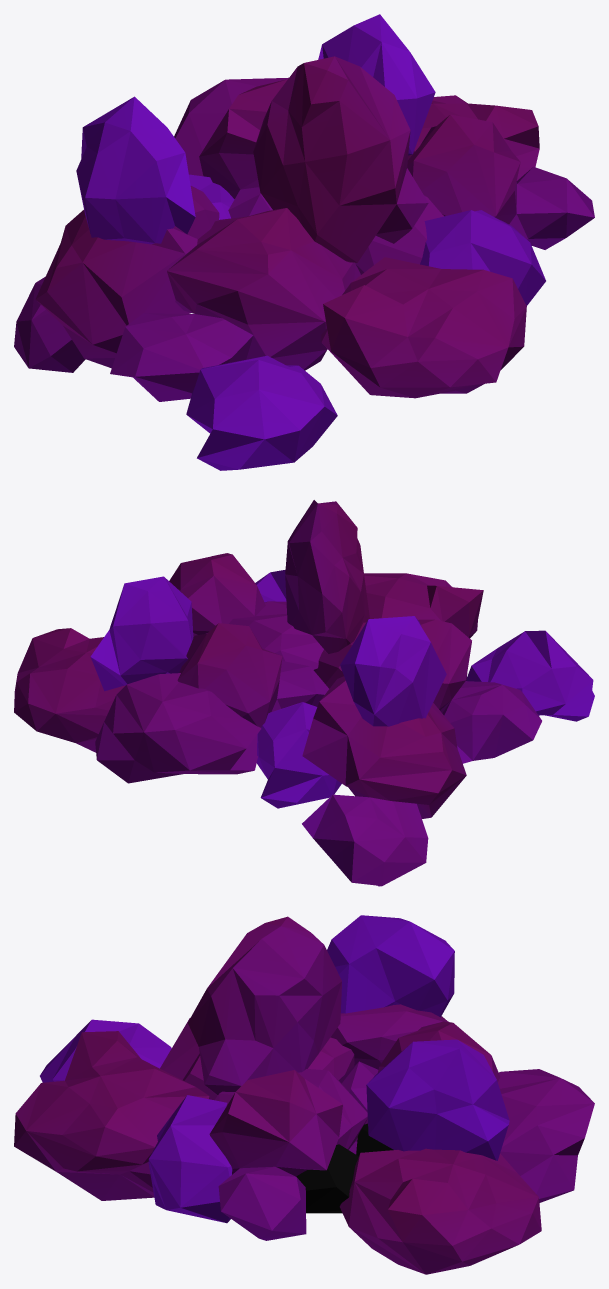
Rendered from SM_Env_Bush_Cluster_02.glb.
3 views of the same model, one above another, from view 1: azimuth 30°, elevation 25°; view 2: azimuth 150°, elevation 25°; view 3: azimuth 270°, elevation 25° (orthographic). The views are drawn at different scales.
Visible parts, largest first — view 1: SM_Env_Bush_Cluster_02; view 2: SM_Env_Bush_Cluster_02; view 3: SM_Env_Bush_Cluster_02.
Part boxes in pixels (x1,y1,x2,y2): SM_Env_Bush_Cluster_02: (14, 14, 594, 470); SM_Env_Bush_Cluster_02: (14, 500, 594, 886); SM_Env_Bush_Cluster_02: (14, 915, 594, 1274).
Size of the model in its own units: 14.23 by 9.06 by 14.74.
